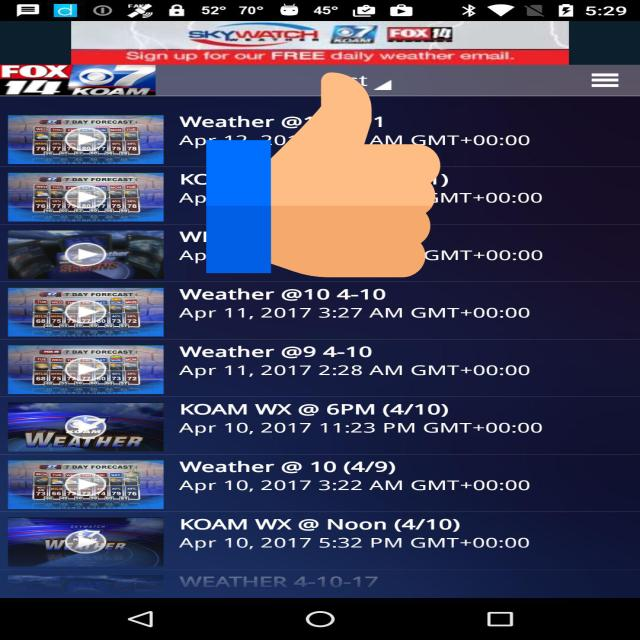privacy zuckering: (207, 68, 440, 282)
